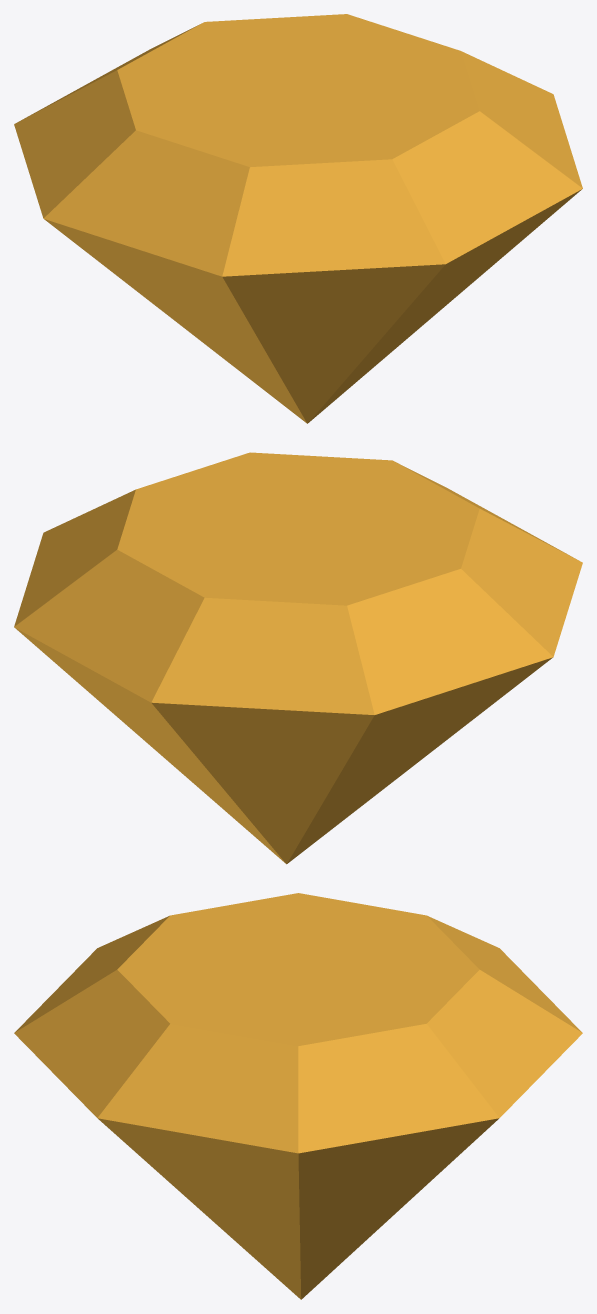
File: yellowgemstone.fbx
The picture shows the model from 3 angles, top to bottom: view 1: azimuth 30°, elevation 25°; view 2: azimuth 150°, elevation 25°; view 3: azimuth 270°, elevation 25°; orthographic projection. The views are drawn at different scales.
Visible parts, largest first — view 1: Cone; view 2: Cone; view 3: Cone.
Boxes of the visible parts, bbox=[...] form: Cone: bbox=[14, 14, 582, 423]; Cone: bbox=[14, 452, 582, 864]; Cone: bbox=[14, 893, 582, 1299].
Bounding box in the file's own units: 200 × 126 × 200.
